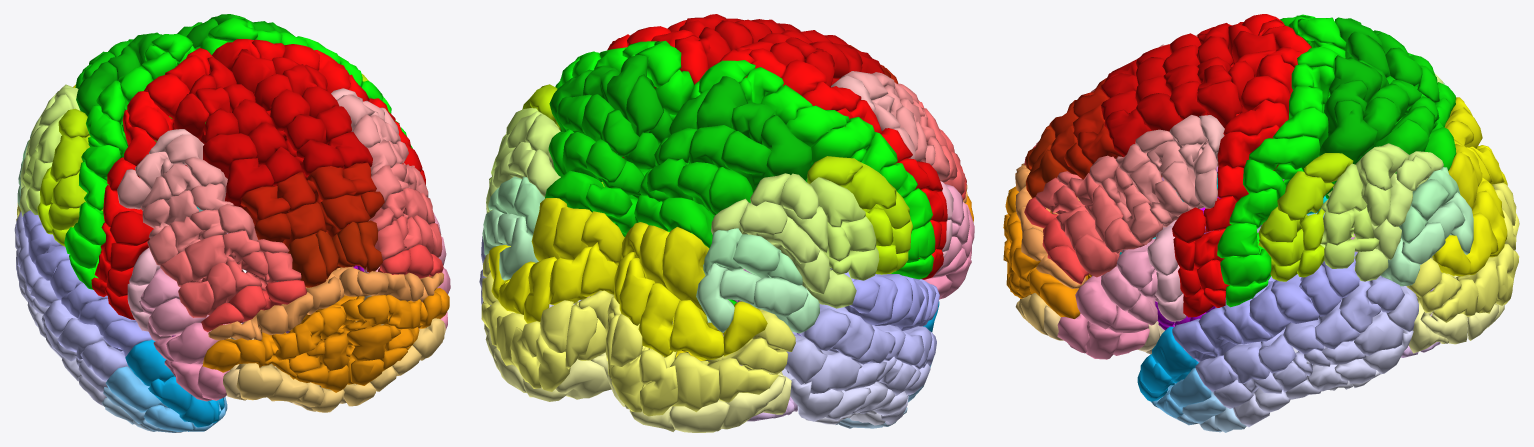
Rendered from Yale_Brain_Atlas.glb.
3 renders of one model, left to right at view 1: azimuth 30°, elevation 25°; view 2: azimuth 150°, elevation 25°; view 3: azimuth 270°, elevation 25°, orthographic. The views are drawn at different scales.
Visible parts, largest first — view 1: R_SF4_D, R_SF5_D, R_SF1_D, R_M2_E, R_FO1_D, R_TP2.1_D, R_TR1_A, R_TP1_F, R_MF3_C, R_TR2_A, R_SM1_B, L_FP2_C (+146 smaller); view 2: R_O1_E, R_O2.1_D, R_O2.2_G, R_P1_G, R_O2.2_H, R_O2.1_C, R_P2_D, R_P1_E, R_O2.2_I, R_S_H, R_P4_G, R_AN2_C (+131 smaller); view 3: L_P1_G, L_S_H, L_SM1_B, L_SM3_B, L_T1_E, L_TR1_A, L_S_L, L_M2_E, L_SF7_E, L_M2_F, L_S_I, L_TP1_F (+151 smaller).
Boxes of the visible parts, left/top/right/bottom form: R_SF4_D: left=225, top=158, right=274, bottom=207; R_SF5_D: left=203, top=133, right=257, bottom=178; R_SF1_D: left=288, top=234, right=326, bottom=287; R_M2_E: left=127, top=91, right=175, bottom=141; R_FO1_D: left=235, top=363, right=282, bottom=400; R_TP2.1_D: left=106, top=366, right=169, bottom=412; R_TR1_A: left=166, top=322, right=229, bottom=363; R_TP1_F: left=125, top=339, right=174, bottom=386; R_MF3_C: left=184, top=235, right=227, bottom=282; R_TR2_A: left=148, top=298, right=209, bottom=336; R_SM1_B: left=50, top=134, right=90, bottom=182; L_FP2_C: left=347, top=325, right=391, bottom=361; R_O1_E: left=662, top=227, right=709, bottom=314; R_O2.1_D: left=669, top=300, right=723, bottom=360; R_O2.2_G: left=639, top=349, right=678, bottom=416; R_P1_G: left=761, top=115, right=811, bottom=182; R_O2.2_H: left=670, top=352, right=718, bottom=412; R_O2.1_C: left=638, top=283, right=680, bottom=357; R_P2_D: left=721, top=130, right=772, bottom=192; R_P1_E: left=696, top=76, right=747, bottom=129; R_O2.2_I: left=707, top=357, right=779, bottom=402; R_S_H: left=809, top=117, right=875, bottom=169; R_P4_G: left=659, top=197, right=713, bottom=248; R_AN2_C: left=754, top=277, right=808, bottom=317; L_P1_G: left=1319, top=100, right=1377, bottom=198; L_S_H: left=1249, top=135, right=1320, bottom=171; L_SM1_B: left=1277, top=171, right=1334, bottom=220; L_SM3_B: left=1320, top=199, right=1374, bottom=245; L_T1_E: left=1271, top=274, right=1319, bottom=323; L_TR1_A: left=1075, top=275, right=1117, bottom=329; L_S_L: left=1220, top=249, right=1271, bottom=286; L_M2_E: left=1223, top=99, right=1288, bottom=135; L_SF7_E: left=1197, top=80, right=1242, bottom=128; L_M2_F: left=1217, top=124, right=1279, bottom=170; L_S_I: left=1243, top=160, right=1303, bottom=206; L_TP1_F: left=1151, top=326, right=1198, bottom=383.
Bounding box in the file's own units: 145 × 135 × 181.
